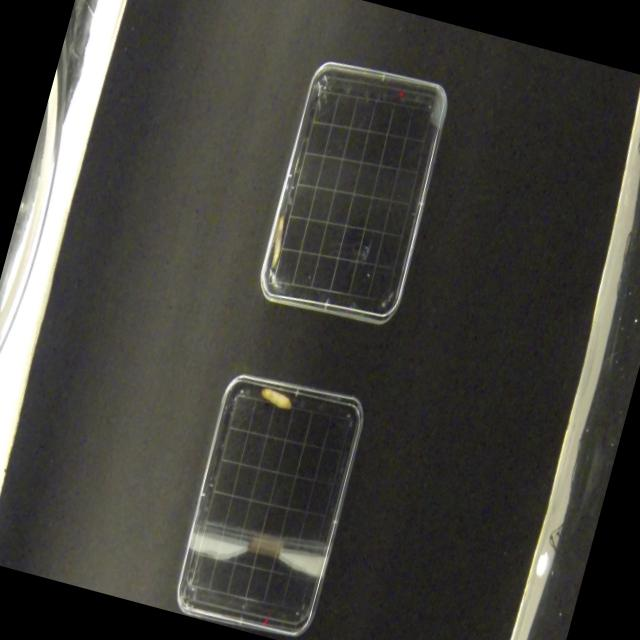larva: (266, 210, 291, 268), (257, 386, 295, 412)
